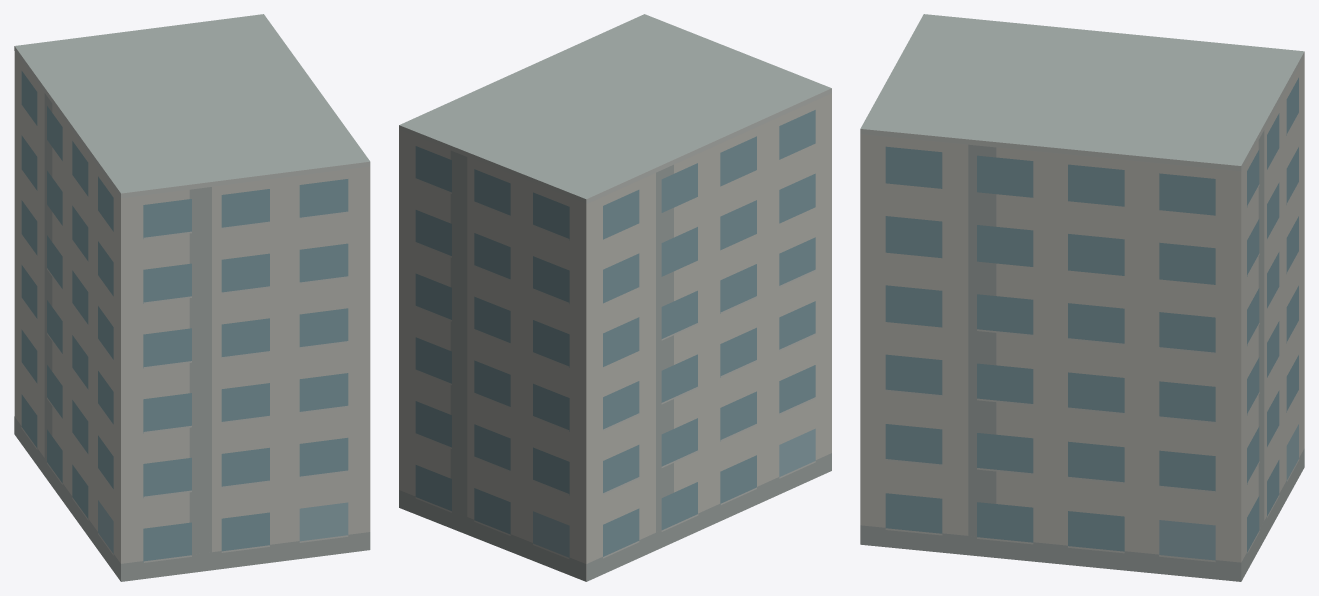
Rendered from survey-upis-32878439.glb.
The picture shows the model from 3 angles, left to right: view 1: azimuth 30°, elevation 25°; view 2: azimuth 150°, elevation 25°; view 3: azimuth 270°, elevation 25°; orthographic projection. The views are drawn at different scales.
Visible parts, largest first — view 1: survey-upis-32878439.tmp; view 2: survey-upis-32878439.tmp; view 3: survey-upis-32878439.tmp.
Boxes of the visible parts, bbox=[...] form: survey-upis-32878439.tmp: bbox=[14, 14, 370, 581]; survey-upis-32878439.tmp: bbox=[399, 14, 831, 581]; survey-upis-32878439.tmp: bbox=[860, 14, 1304, 581].
Size of the model in its own units: 15.03 by 19.15 by 18.56.
